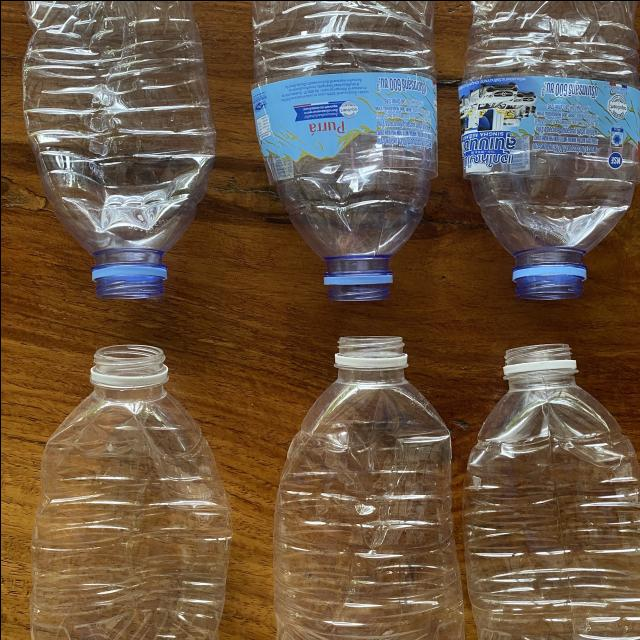plastik: (29, 344, 231, 640), (273, 335, 464, 640), (22, 0, 215, 299), (250, 0, 436, 300), (457, 0, 640, 299), (461, 343, 640, 640)
